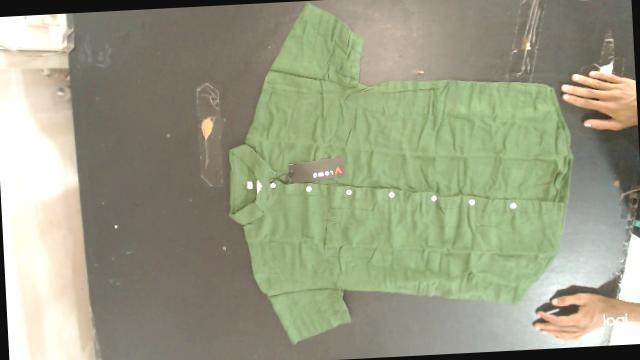new-garment: (229, 3, 571, 342)
